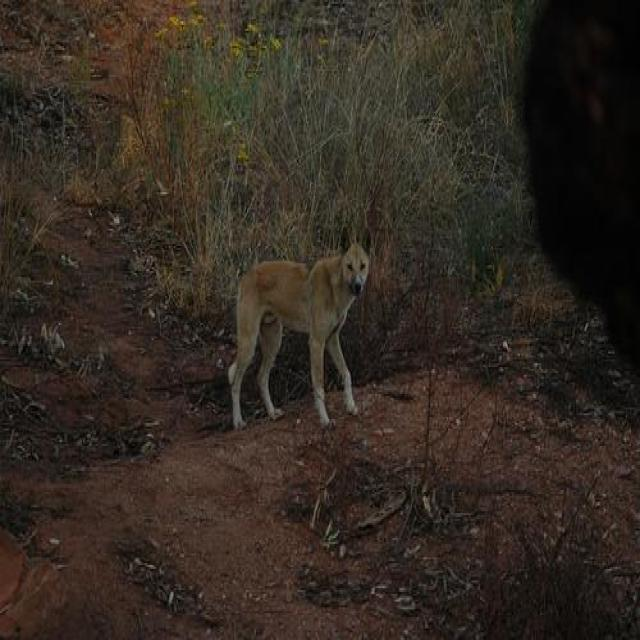dog: (198, 220, 403, 431)
